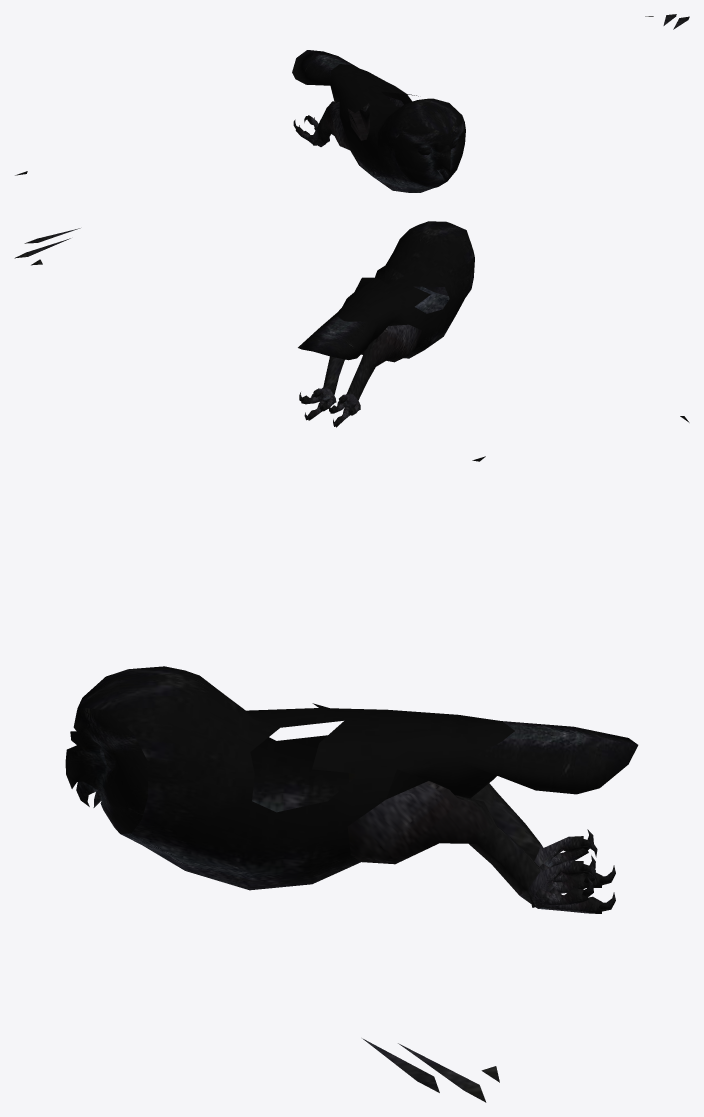
The model's file is Cuerpo.obj.
The picture shows the model from 3 angles, top to bottom: view 1: azimuth 30°, elevation 25°; view 2: azimuth 150°, elevation 25°; view 3: azimuth 270°, elevation 25°; orthographic projection. The views are drawn at different scales.
Visible parts, largest first — view 1: Cube.004_Cube.005; view 2: Cube.004_Cube.005; view 3: Cube.004_Cube.005.
Boxes of the visible parts, left/top/right/bottom form: Cube.004_Cube.005: left=15, top=14, right=689, bottom=192; Cube.004_Cube.005: left=14, top=221, right=689, bottom=427; Cube.004_Cube.005: left=65, top=456, right=638, bottom=1102.
Bounding box in the file's own units: 10.44 × 1.69 × 3.9.
Materials: 1 (1 with a texture image).
